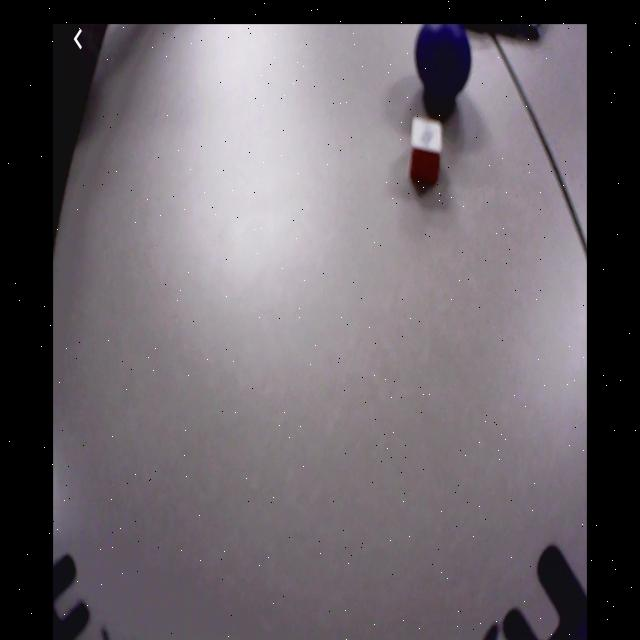ball: (416, 26, 473, 95)
